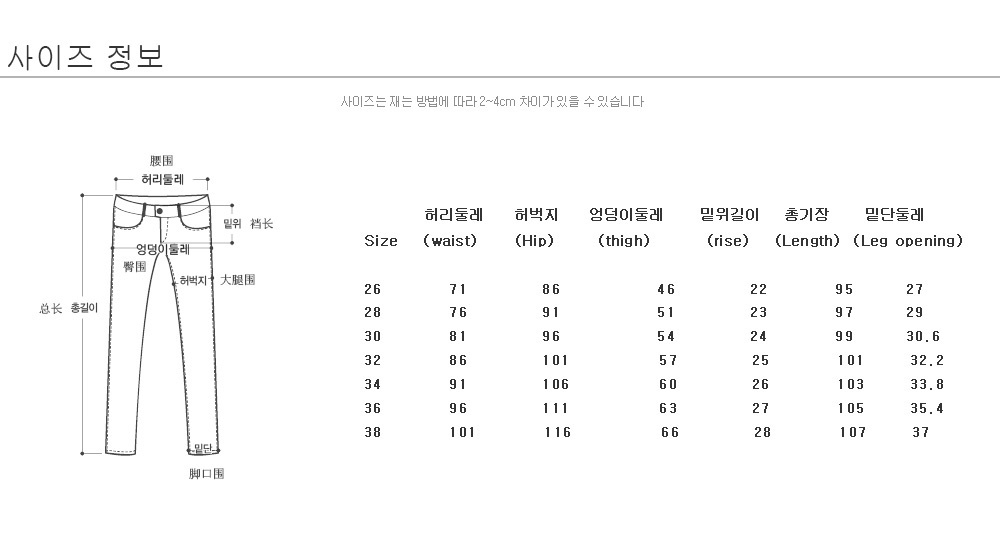table: (356, 203, 984, 453)
